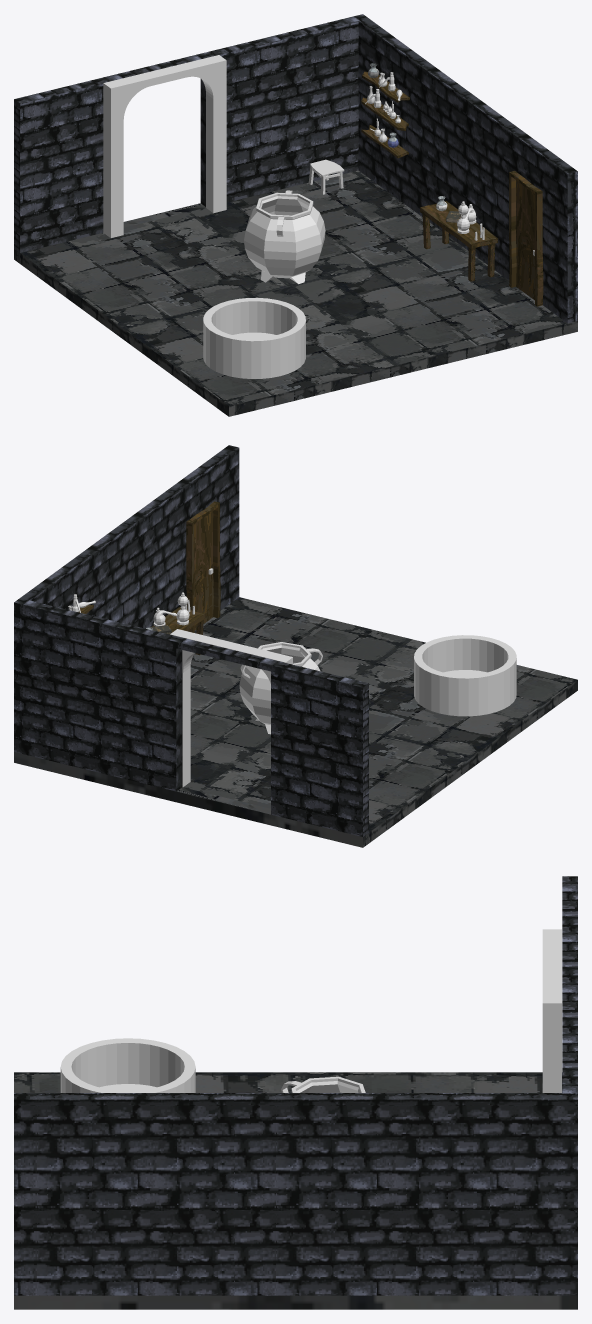
Rendered from Level-2-v3.fbx.
The picture shows the model from 3 angles, top to bottom: view 1: azimuth 30°, elevation 25°; view 2: azimuth 150°, elevation 25°; view 3: azimuth 270°, elevation 25°; orthographic projection. The views are drawn at different scales.
Visible parts, largest first — view 1: Layout, Arc-To-Room, Well, Cauldron, Door, Door-Frame, Table, Stool; view 2: Layout, Well, Cauldron, Arc-To-Room, Door, Door-Frame, Table, Flask_Set1; view 3: Layout, Well, Arc-To-Room, Cauldron.
Part boxes in pixels (x1,y1,x2,y2): Layout: (14,14,577,416); Arc-To-Room: (103,55,226,237); Well: (203,297,305,378); Cauldron: (244,190,325,284); Door: (515,180,535,300); Door-Frame: (509,171,543,306); Table: (420,201,497,281); Stool: (308,159,344,194); Layout: (14,445,577,847); Well: (414,635,516,716); Cauldron: (239,642,322,734); Arc-To-Room: (170,629,292,786); Door: (194,511,213,630); Door-Frame: (186,501,220,632); Table: (152,607,206,655); Flask_Set1: (153,592,189,626); Layout: (14,876,577,1309); Well: (60,1038,195,1092); Arc-To-Room: (542,929,561,1092); Cauldron: (281,1076,365,1092).
Bounding box in the file's own units: 1015 × 446 × 1083.
Materials: 14 (7 with a texture image).
